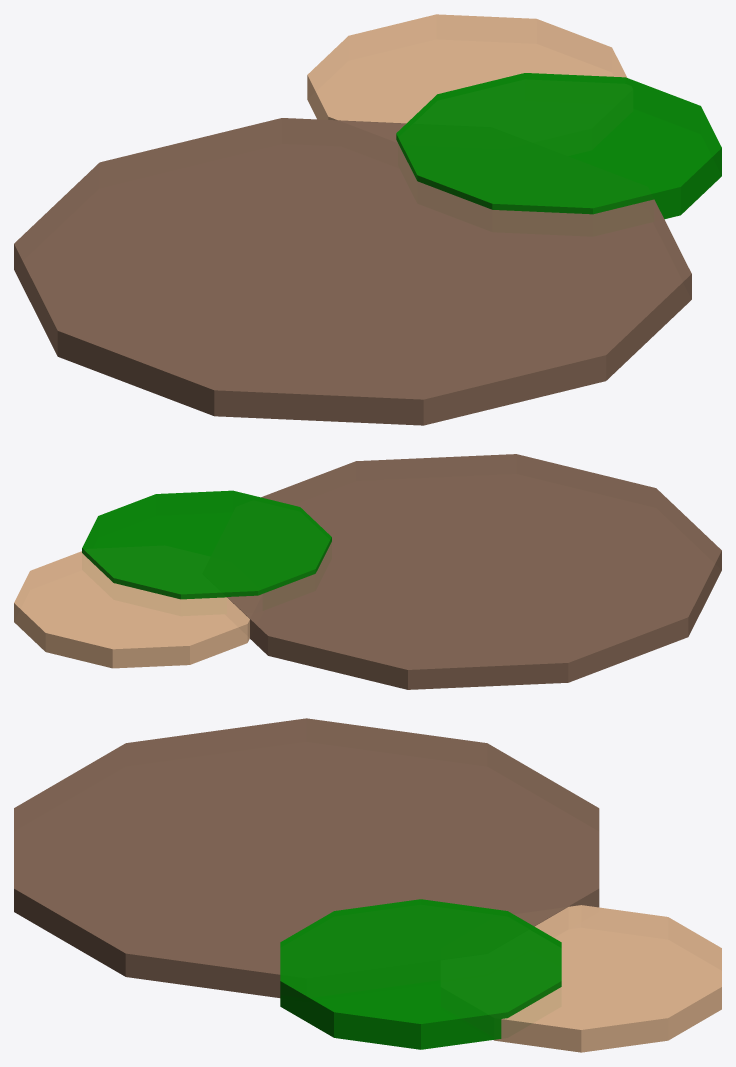
Rendered from Mess6.fbx.
The picture shows the model from 3 angles, top to bottom: view 1: azimuth 30°, elevation 25°; view 2: azimuth 150°, elevation 25°; view 3: azimuth 270°, elevation 25°; orthographic projection. The views are drawn at different scales.
Visible parts, largest first — view 1: polySurface1; view 2: polySurface1; view 3: polySurface1.
Boxes of the visible parts, x1,y1,x2,y2 form: polySurface1: [14, 14, 721, 425]; polySurface1: [14, 454, 721, 689]; polySurface1: [14, 718, 721, 1052].
Size of the model in its own units: 26.12 by 1.13 by 25.11.
